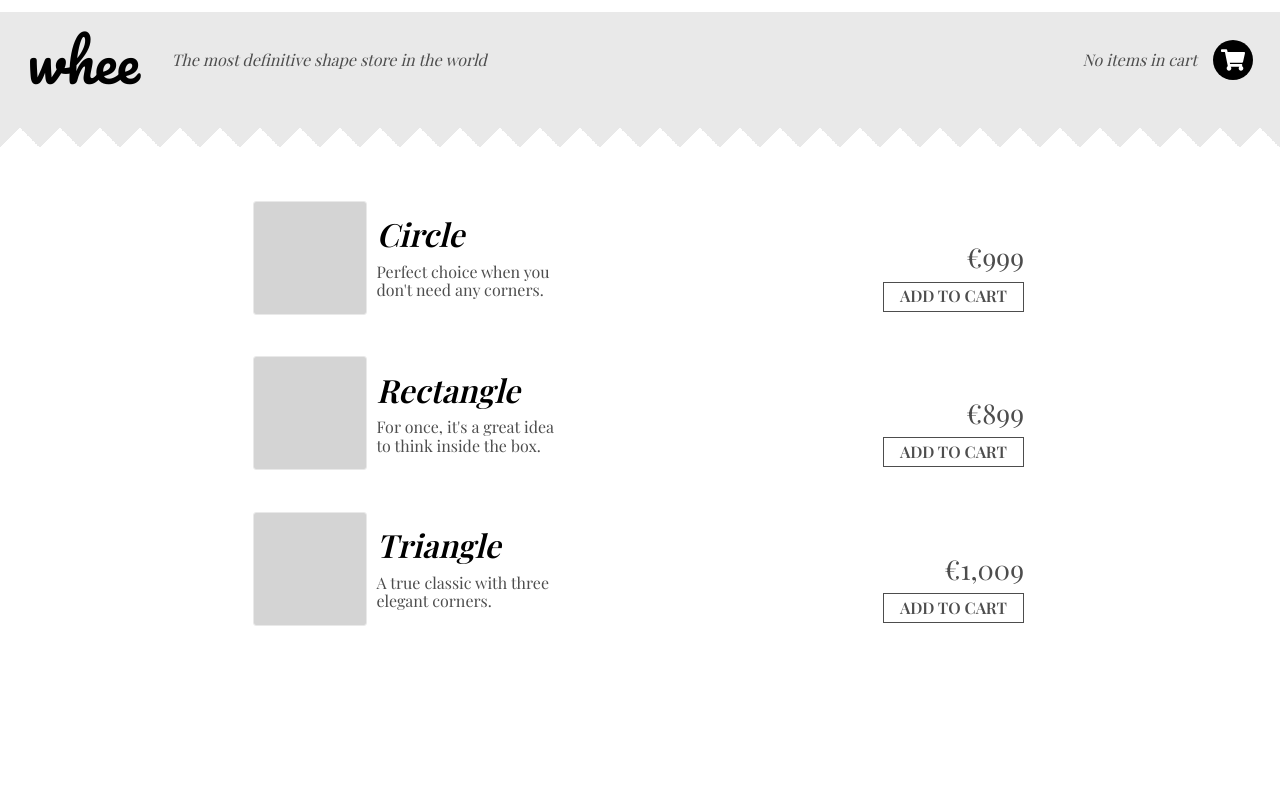
Test: Product view › should correctly remove items from the cart
The width and height of the screenshot is (1280, 812).
Click the button "ADD TO CART" below "€899" at (954, 452), box [883,437,1024,467]
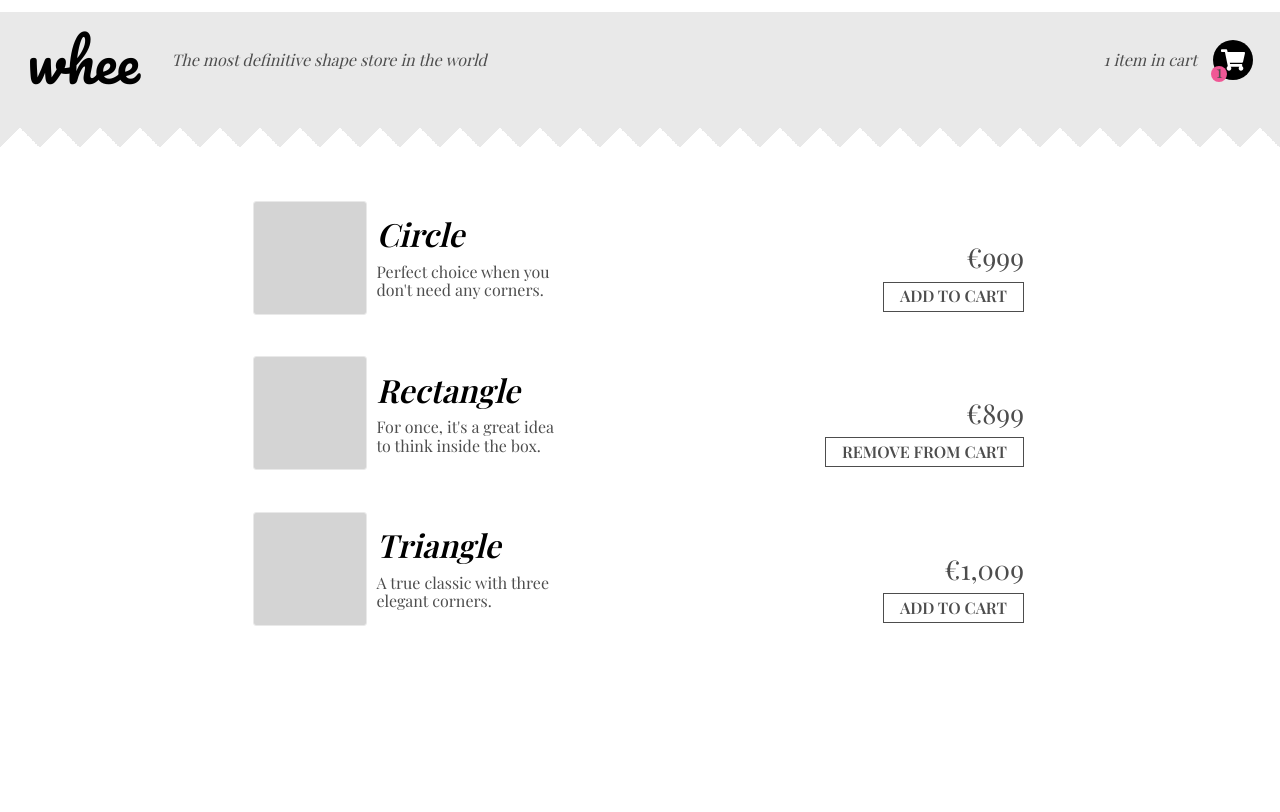
Check: the list item "No items in cart" is gone
Check: the list item "1 item in cart" is shown, box [1104,49,1197,70]
Check: the button "REMOVE FROM CART" is shown
Click the button "REMOVE FROM CART" at (925, 452), box [825,437,1024,467]
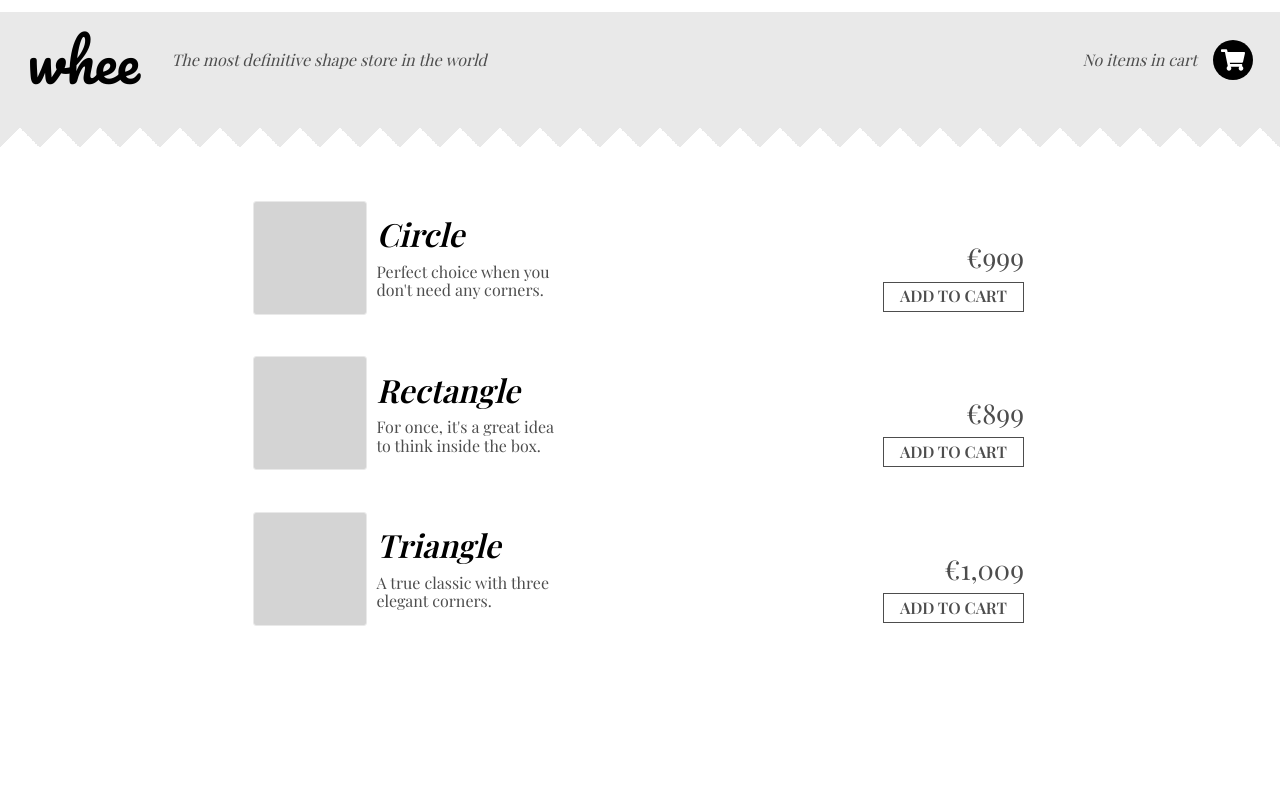
Check: the button "REMOVE FROM CART" is gone
Check: the list item "1 item in cart" is gone
Check: the list item "No items in cart" is shown, box [1082,49,1197,70]
Click the button "ADD TO CART" below "€999" at (954, 297), box [883,282,1024,312]
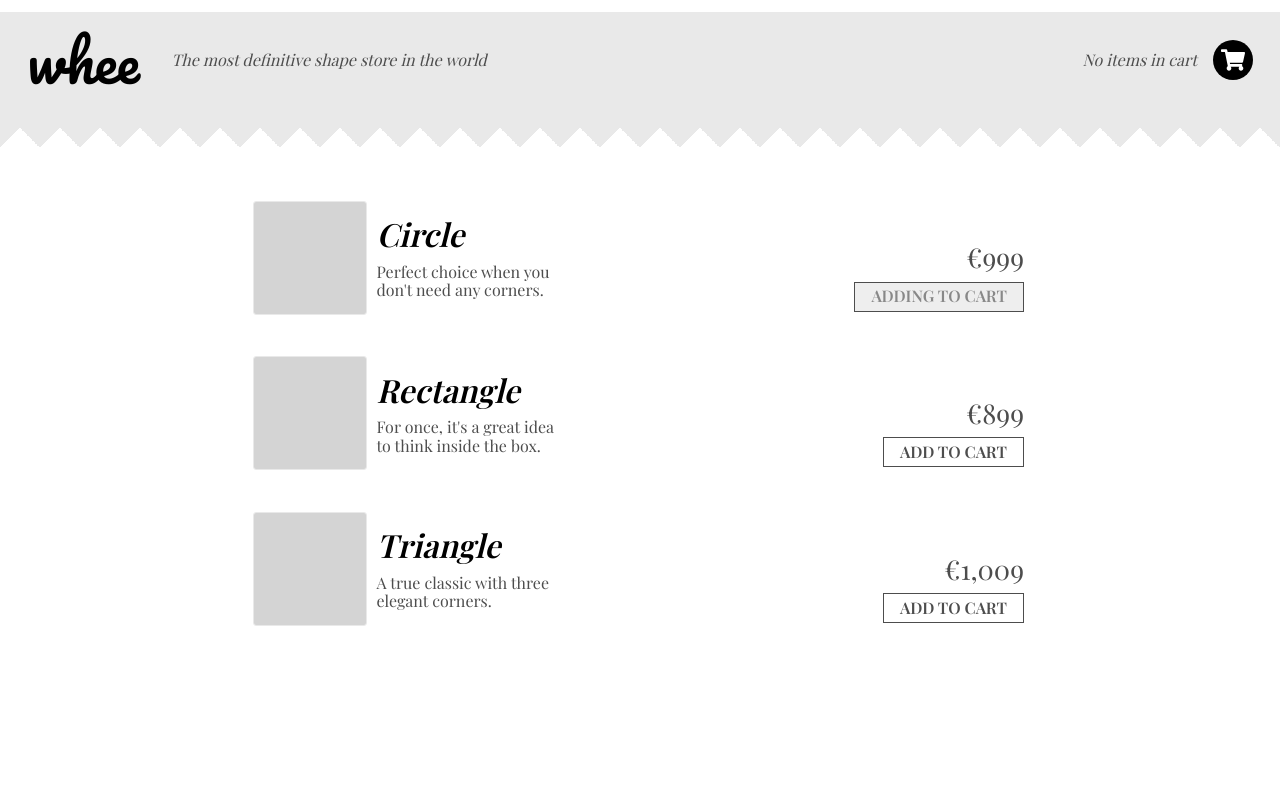
Click the button "ADD TO CART" below "€1,009" at (954, 608), box [883,593,1024,623]
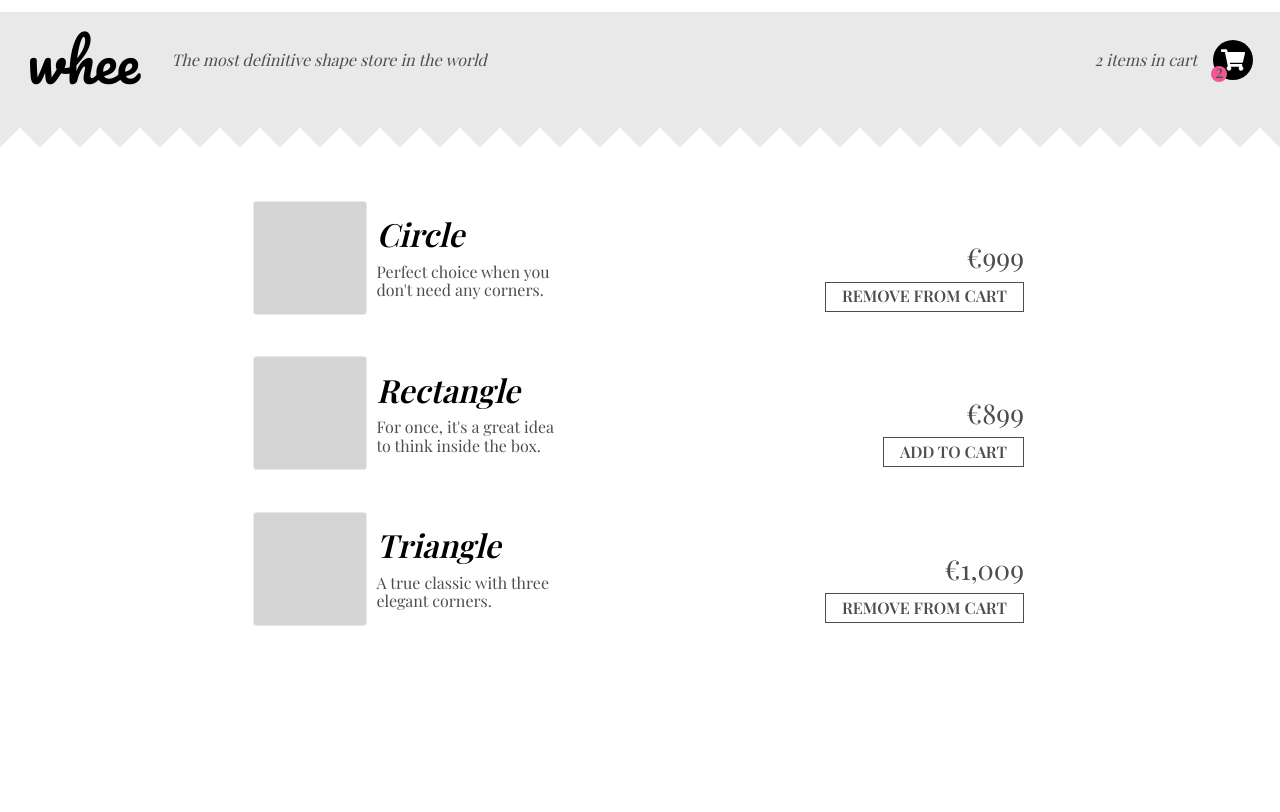
Check: the list item "No items in cart" is gone
Check: the list item "2 items in cart" is shown, box [1095,49,1197,70]
Check: the button "REMOVE FROM CART" below "€999" is shown
Click the button "REMOVE FROM CART" below "€999" at (925, 297), box [825,282,1024,312]
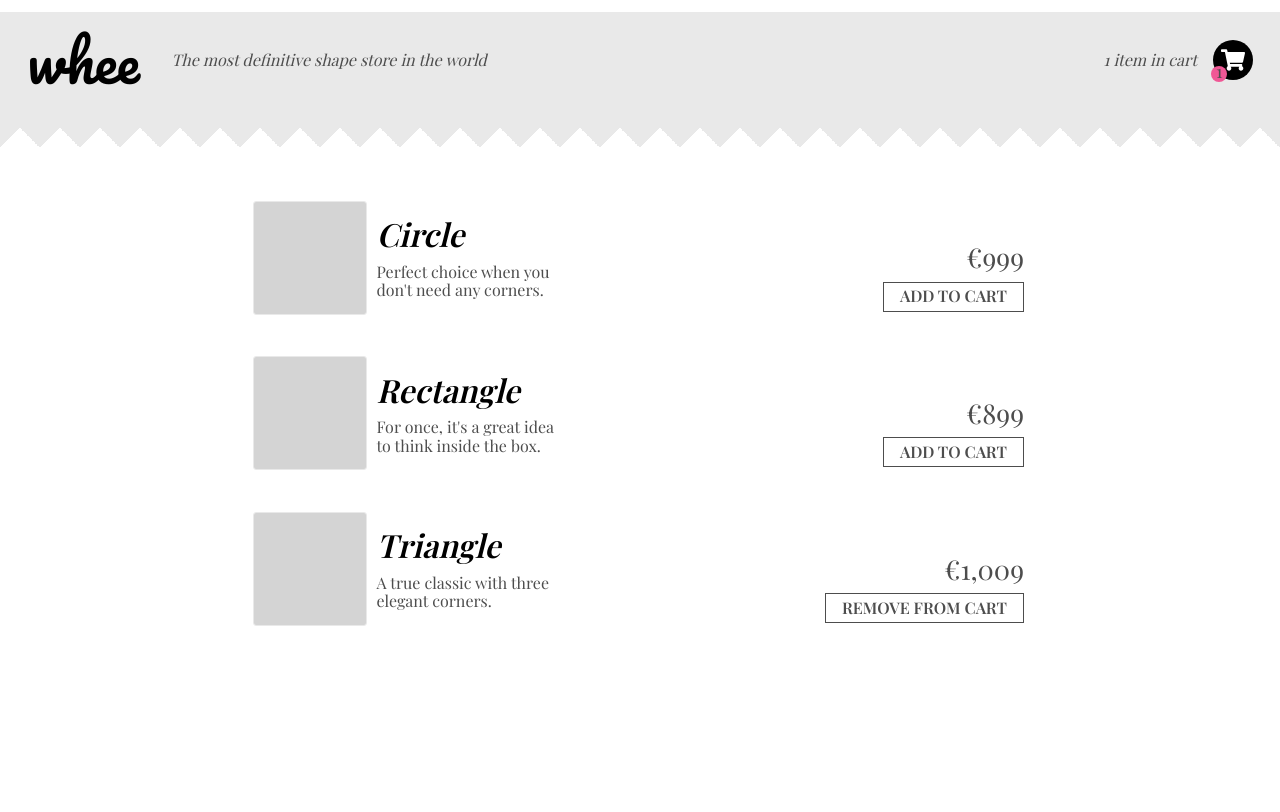
Check: the button "REMOVE FROM CART" is shown
Check: the list item "2 items in cart" is gone
Check: the list item "1 item in cart" is shown, box [1104,49,1197,70]
Click the button "REMOVE FROM CART" at (925, 608), box [825,593,1024,623]
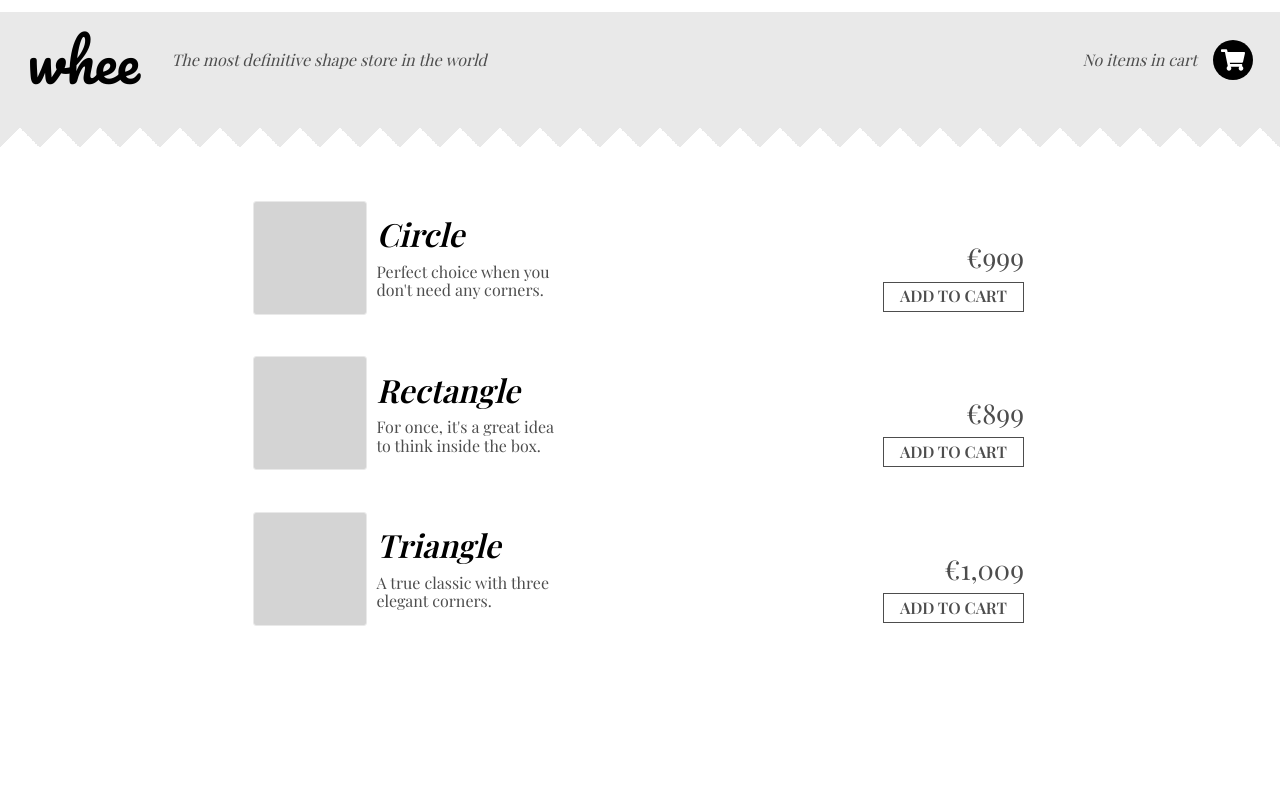
Check: the list item "No items in cart" is shown, box [1082,49,1197,70]
